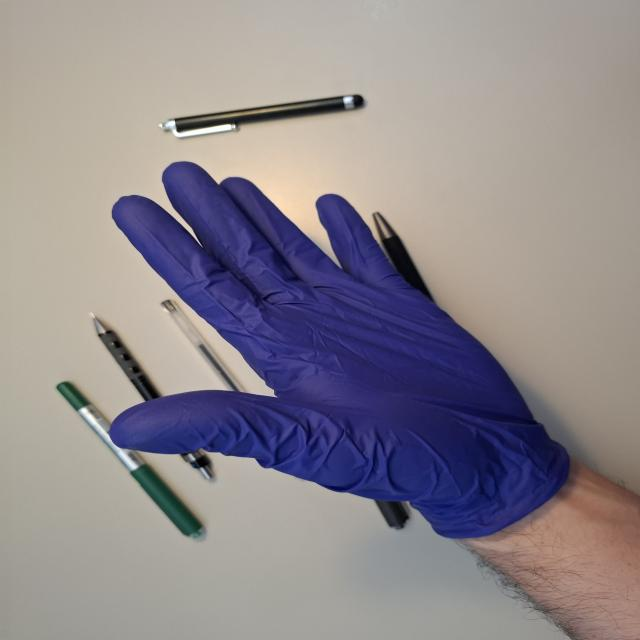glove_on: (106, 158, 567, 541)
